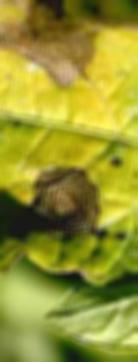Tomato Early blight leaf: (0, 4, 138, 293)
